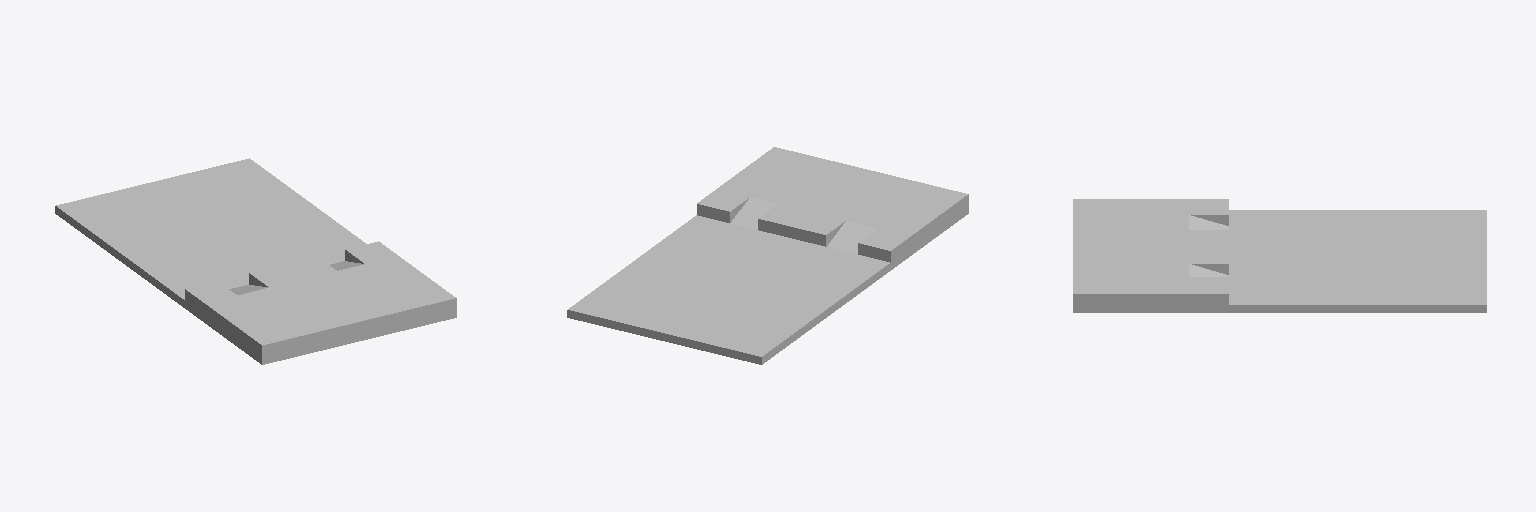
The model's file is 25x47DoubleRampPlatformRooftop.obj.
The picture shows the model from 3 angles: view 1: azimuth 30°, elevation 25°; view 2: azimuth 150°, elevation 25°; view 3: azimuth 270°, elevation 25°; orthographic projection.
Visible parts, largest first — view 1: pCube21; view 2: pCube21; view 3: pCube21.
Part boxes in pixels (x1,y1,x2,y2): pCube21: (55, 158, 456, 364); pCube21: (567, 147, 968, 364); pCube21: (1073, 199, 1486, 312).
Bounding box in the file's own units: 25 × 2.42 × 46.09.